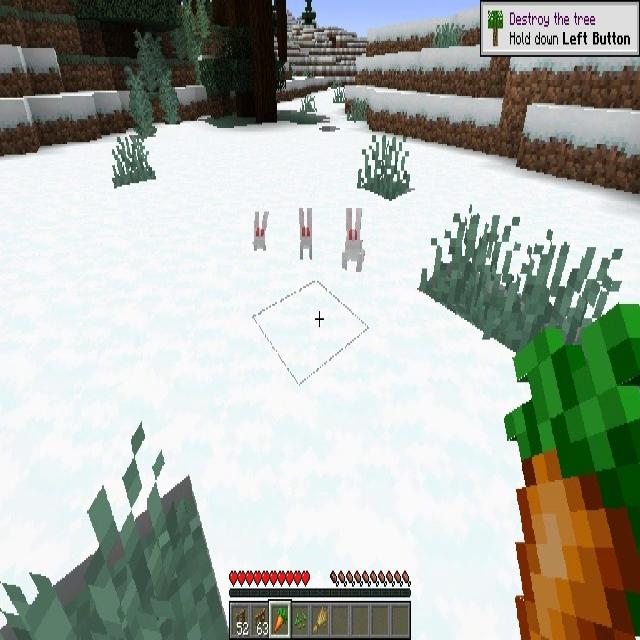rabbit: (340, 206, 364, 274), (252, 210, 270, 254), (298, 208, 312, 263)
